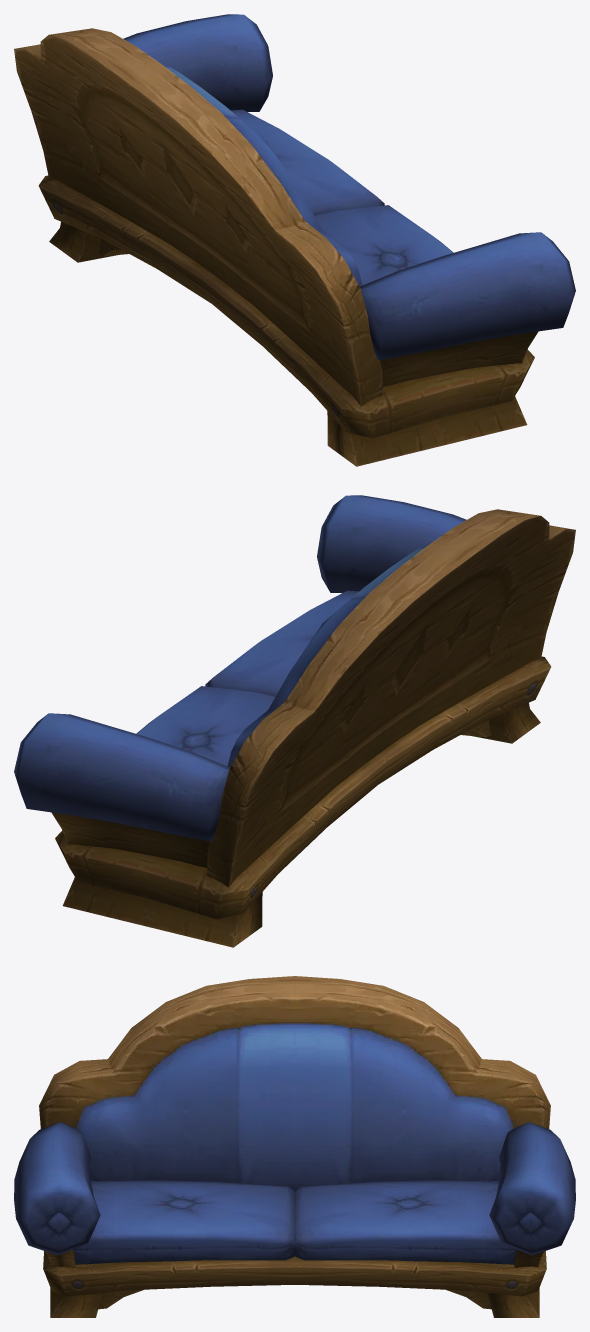
3 renders of one model, top to bottom at view 1: azimuth 30°, elevation 25°; view 2: azimuth 150°, elevation 25°; view 3: azimuth 270°, elevation 25°, orthographic. The views are drawn at different scales.
Bounding box in the file's own units: 1.76 × 1.73 × 3.66.
Materials: 1 (1 with a texture image).
